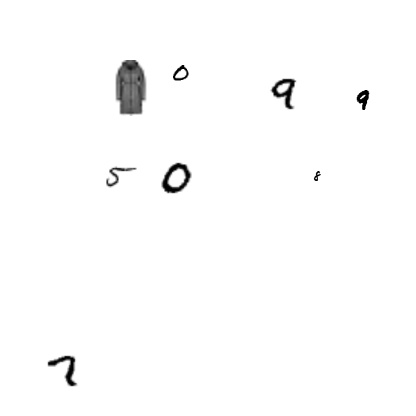0: (154, 157, 196, 199), (169, 62, 191, 84)
5: (96, 153, 138, 195)
7: (45, 347, 87, 389)
8: (310, 169, 324, 183)
9: (263, 70, 305, 112), (349, 84, 377, 112)
Coat: (102, 60, 158, 116)
